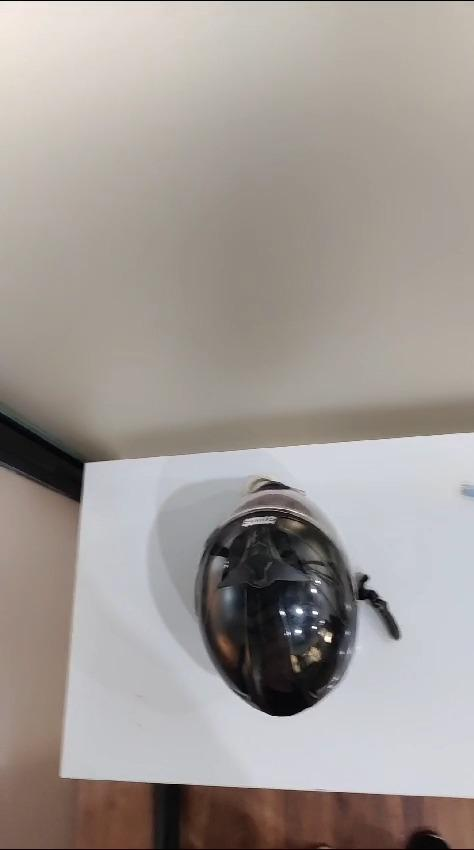Helmet: (195, 479, 399, 715)
